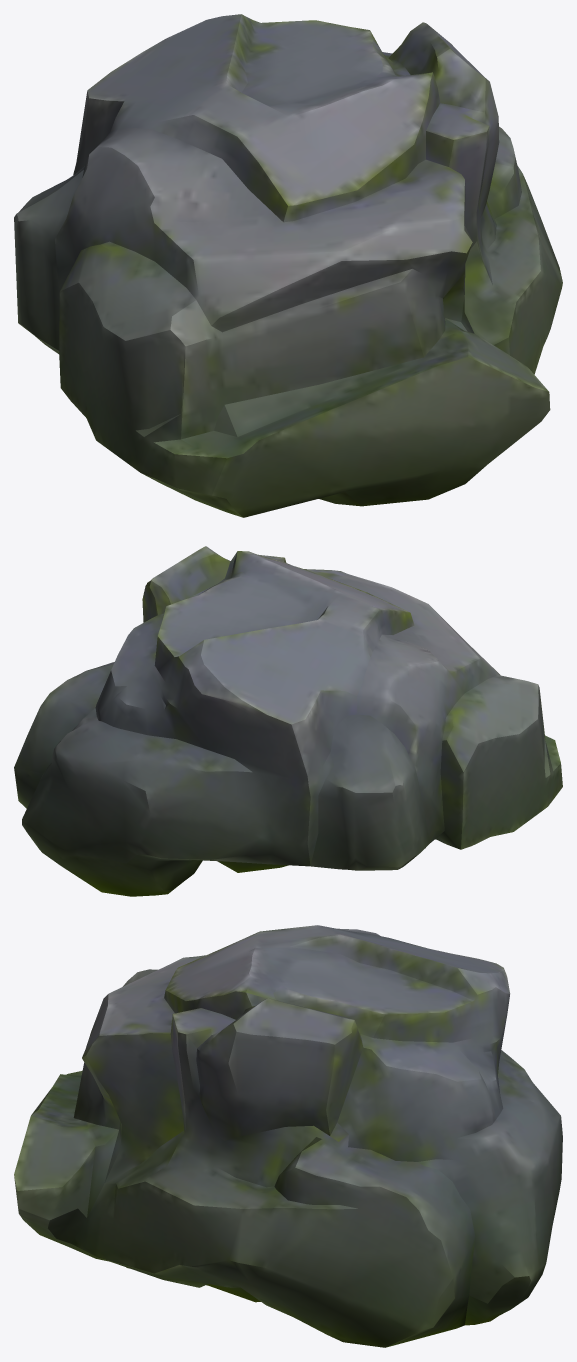
Rendered from Rock_Big_2.glb.
3 views of the same model, one above another, from view 1: azimuth 30°, elevation 25°; view 2: azimuth 150°, elevation 25°; view 3: azimuth 270°, elevation 25° (orthographic). The views are drawn at different scales.
Parts seen in each view (by area): view 1: Rock_Big_2; view 2: Rock_Big_2; view 3: Rock_Big_2.
Part boxes in pixels (<box>): Rock_Big_2: <box>14,14,562,517</box>; Rock_Big_2: <box>14,546,562,896</box>; Rock_Big_2: <box>14,925,562,1347</box>.
Bounding box in the file's own units: 5.77 × 3.81 × 5.82.
1 material, 1 textured.
